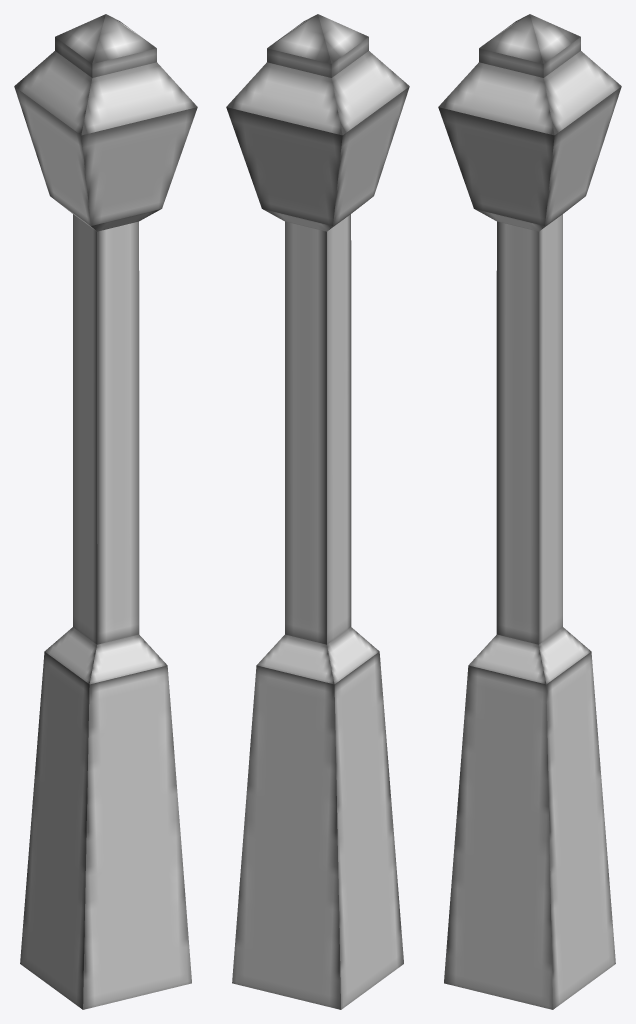
File: Lamp-02.fbx
3 views of the same model, side by side, from view 1: azimuth 30°, elevation 25°; view 2: azimuth 150°, elevation 25°; view 3: azimuth 330°, elevation 25° (orthographic).
Visible parts, largest first — view 1: Lamp_02; view 2: Lamp_02; view 3: Lamp_02.
Boxes of the visible parts, <box> form: Lamp_02: <box>14,14,197,1009</box>; Lamp_02: <box>226,14,409,1009</box>; Lamp_02: <box>438,14,621,1009</box>.
Bounding box in the file's own units: 0.1984 × 1.56 × 0.1984.
